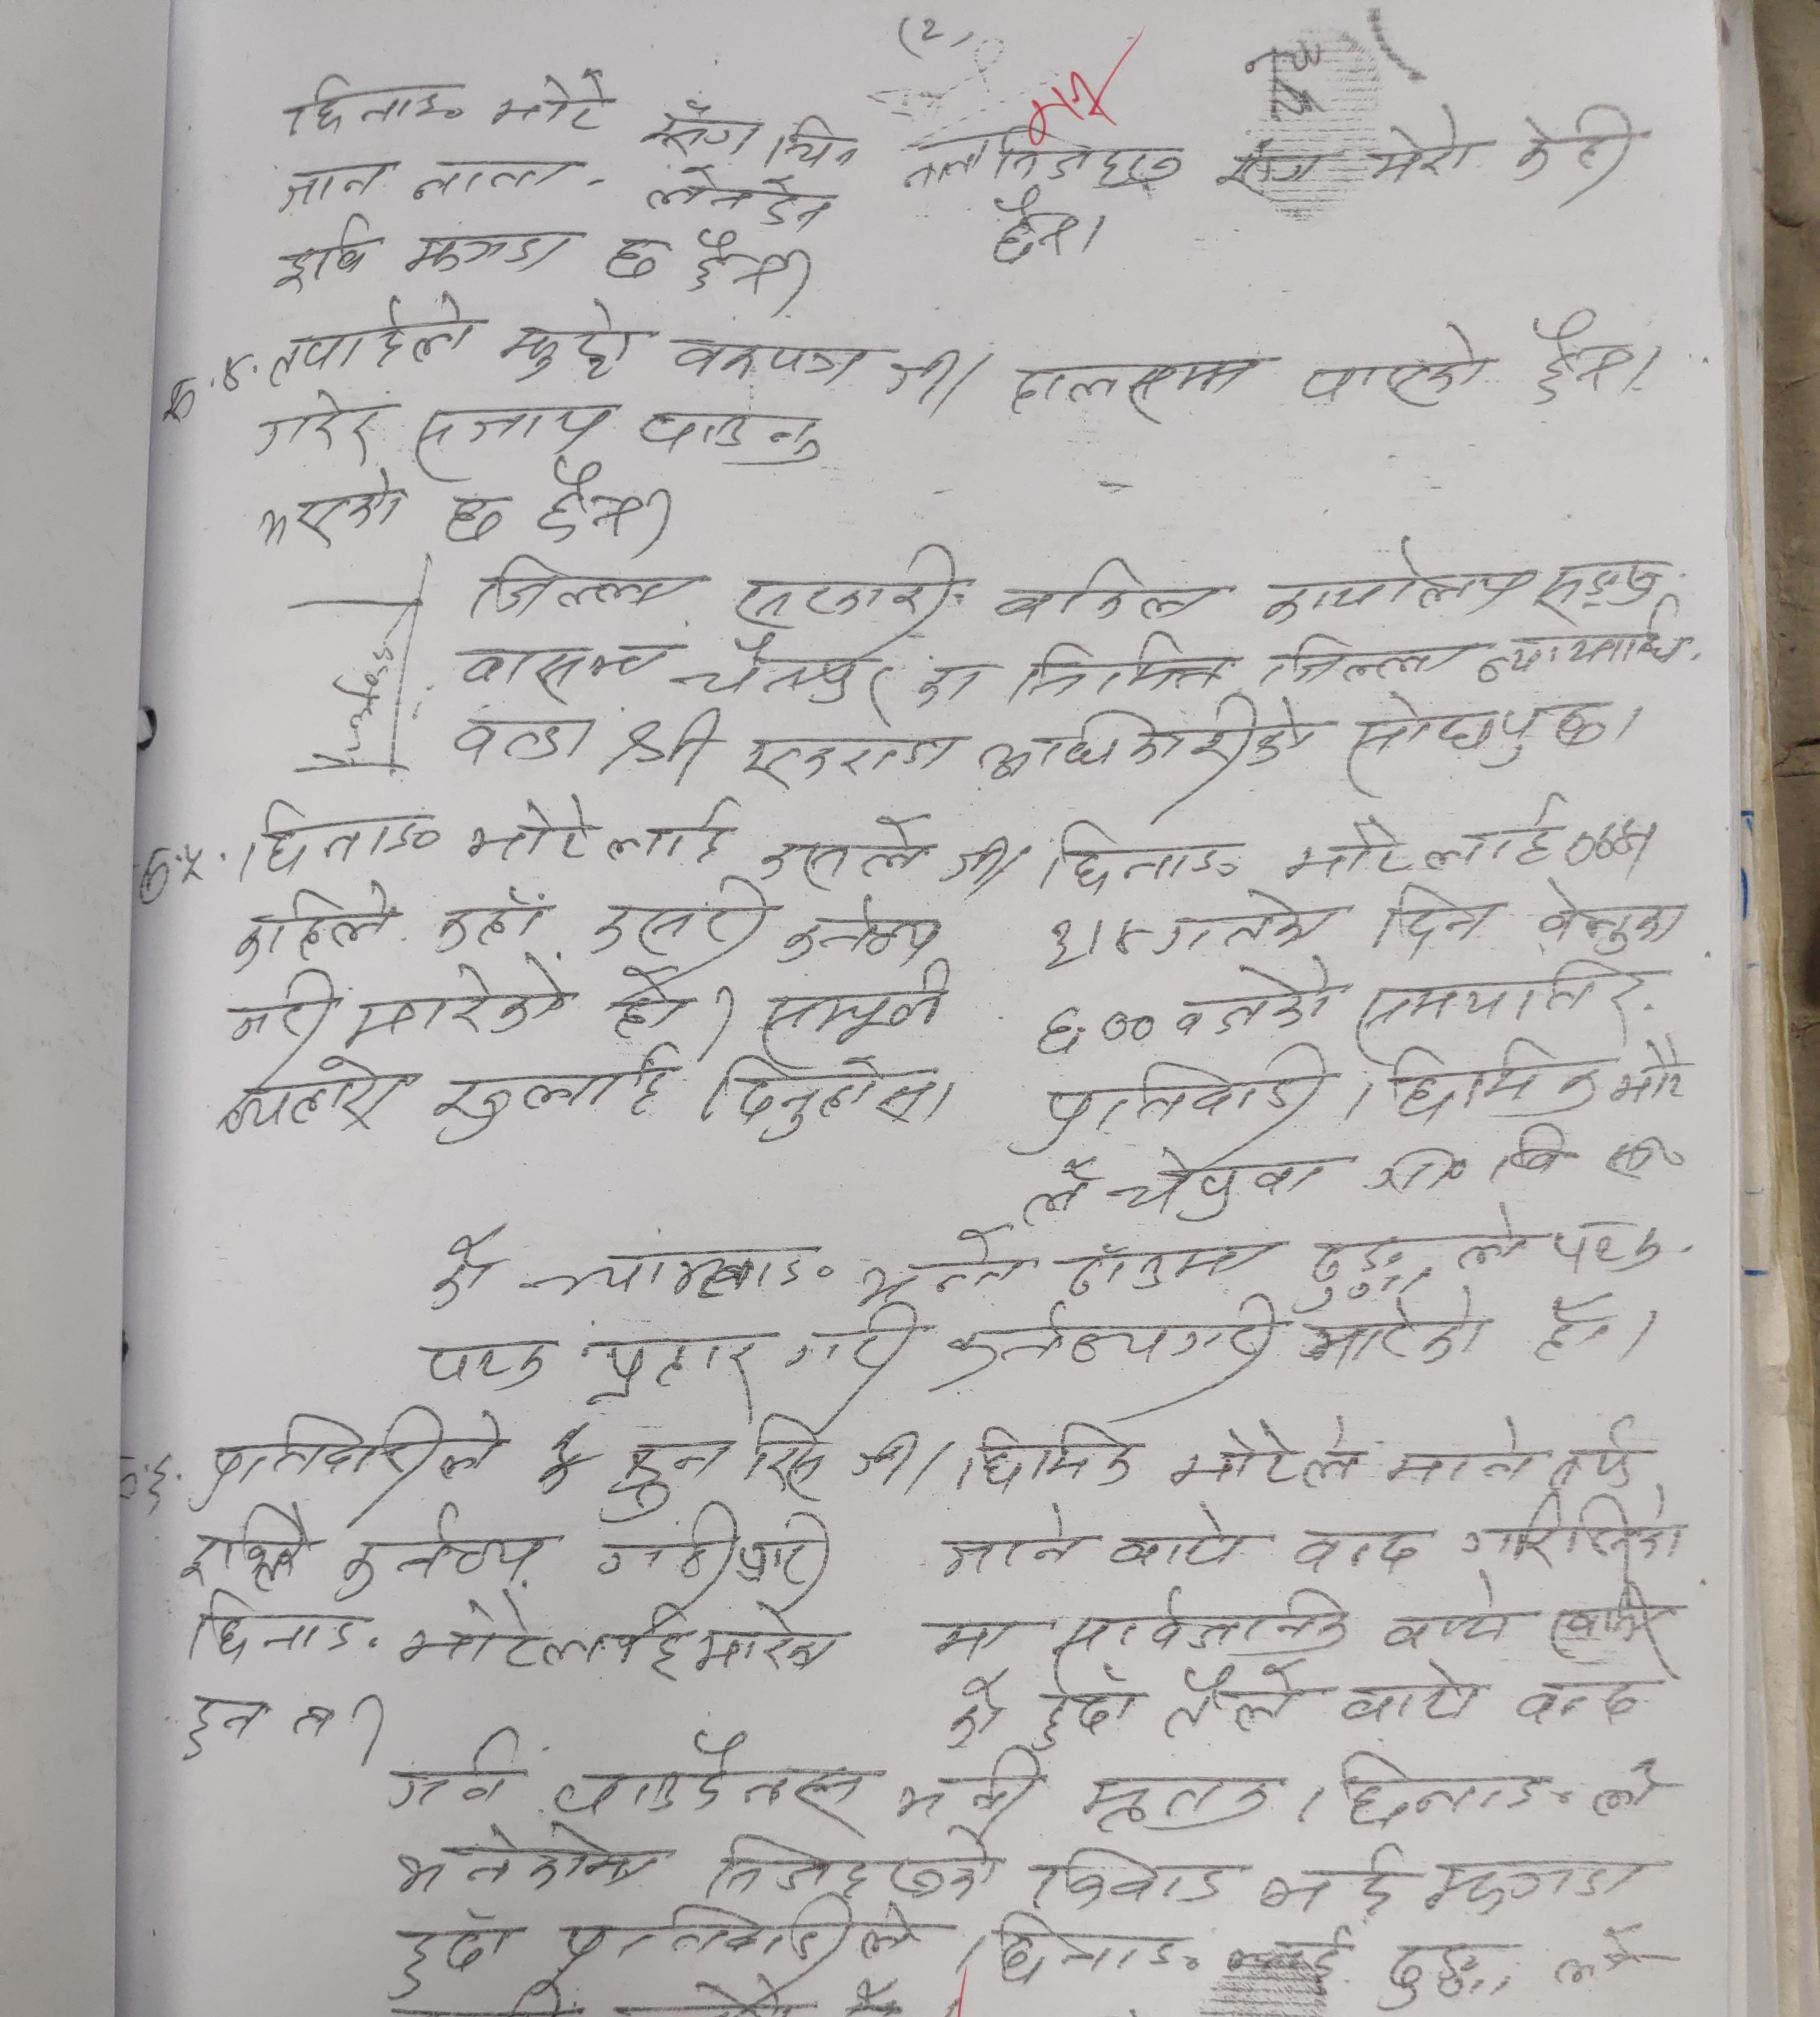text: (548, 1898, 924, 1984), (1300, 1748, 1667, 1833), (546, 1731, 877, 1824), (977, 696, 1314, 785), (399, 1590, 690, 1690), (193, 1399, 506, 1490), (1017, 1056, 1342, 1144), (942, 1297, 1281, 1377), (430, 1044, 676, 1154), (1353, 952, 1669, 1038), (1282, 787, 1558, 886), (1367, 1038, 1692, 1121), (1040, 1578, 1356, 1662), (706, 1047, 961, 1149), (590, 1500, 841, 1602), (1256, 532, 1535, 624), (1347, 685, 1613, 780), (1374, 1121, 1690, 1198), (733, 532, 966, 633), (394, 1813, 664, 1898), (339, 958, 573, 1054), (954, 1906, 1203, 1994), (1293, 1204, 1521, 1298), (706, 1829, 993, 1903), (265, 292, 476, 388), (1455, 1488, 1694, 1572), (761, 956, 950, 1058), (334, 1497, 546, 1587), (532, 1239, 840, 1298), (1418, 1843, 1660, 1919), (1298, 318, 1493, 411), (1003, 357, 1268, 423), (221, 1056, 416, 1146), (181, 1585, 386, 1669), (1114, 1146, 1330, 1225), (989, 553, 1221, 625), (1166, 1413, 1365, 1495), (952, 1413, 1144, 1497), (748, 1413, 921, 1506), (1476, 610, 1692, 683), (589, 871, 776, 956), (1019, 629, 1226, 705), (850, 1228, 1038, 1309), (1040, 819, 1244, 893), (466, 555, 703, 618), (590, 1323, 759, 1409), (743, 724, 964, 789), (227, 880, 397, 965), (1170, 956, 1340, 1040), (1077, 1762, 1275, 1834), (237, 794, 439, 864), (780, 1298, 926, 1393), (170, 1495, 313, 1592), (757, 810, 926, 891), (1058, 1235, 1277, 1297), (1302, 1298, 1488, 1370), (1156, 1659, 1300, 1752), (678, 633, 863, 705), (383, 1905, 522, 1998), (634, 401, 827, 467), (935, 1499, 1087, 1583), (281, 70, 469, 139), (455, 634, 664, 696), (1509, 104, 1637, 204), (408, 397, 629, 455), (1152, 889, 1344, 956), (1548, 1574, 1681, 1669), (1031, 1845, 1231, 1908), (773, 889, 938, 965), (1386, 1411, 1542, 1490), (501, 295, 636, 387), (669, 327, 859, 392), (1532, 878, 1699, 952), (1253, 1840, 1404, 1920), (597, 1423, 738, 1507), (255, 473, 401, 553), (645, 163, 826, 228), (390, 1720, 520, 1810), (1379, 1571, 1514, 1657), (246, 388, 385, 471), (1103, 1497, 1251, 1574), (889, 1750, 1042, 1824), (694, 1604, 850, 1676), (1335, 1653, 1486, 1727), (1521, 306, 1630, 408), (1263, 631, 1462, 685), (690, 225, 815, 311), (1370, 877, 1506, 956), (597, 794, 736, 870), (1379, 1936, 1516, 2012), (462, 792, 596, 868), (394, 223, 576, 278), (216, 968, 339, 1049), (1033, 1662, 1142, 1752), (534, 457, 641, 545), (610, 705, 722, 785), (1542, 1411, 1644, 1497), (408, 151, 574, 202), (1365, 109, 1481, 181), (425, 887, 553, 952), (448, 710, 590, 768), (416, 1335, 557, 1393), (1031, 998, 1163, 1059), (1281, 1520, 1428, 1574), (1553, 1211, 1662, 1283), (1509, 1673, 1646, 1729), (488, 70, 613, 132), (641, 97, 759, 162), (272, 214, 374, 288), (986, 181, 1073, 265), (1210, 135, 1328, 197), (177, 1687, 271, 1764), (610, 959, 696, 1042), (1537, 560, 1655, 617), (425, 1230, 504, 1309), (1019, 1153, 1101, 1228), (276, 158, 390, 213), (1035, 914, 1140, 972), (945, 1666, 1015, 1752), (1532, 1291, 1614, 1362), (769, 112, 859, 170), (896, 134, 987, 190), (922, 1613, 1014, 1662), (441, 490, 502, 546), (603, 227, 664, 281), (283, 1692, 339, 1750)
